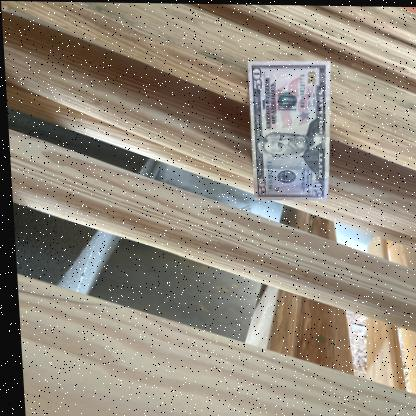fifty-front: (245, 57, 335, 199)
